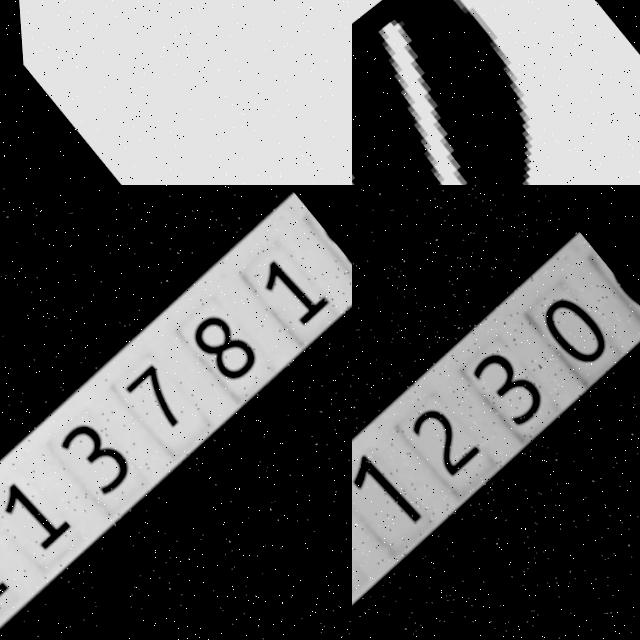0: (519, 279, 622, 384)
1: (224, 231, 346, 352), (0, 450, 85, 580), (352, 441, 427, 553)
2: (385, 388, 487, 490)
3: (18, 390, 153, 524), (448, 332, 556, 441)
6: (582, 250, 640, 329)
7: (89, 339, 210, 459)
8: (150, 281, 282, 412), (286, 206, 352, 299)
R: (352, 0, 640, 185)
X: (10, 0, 352, 185)
